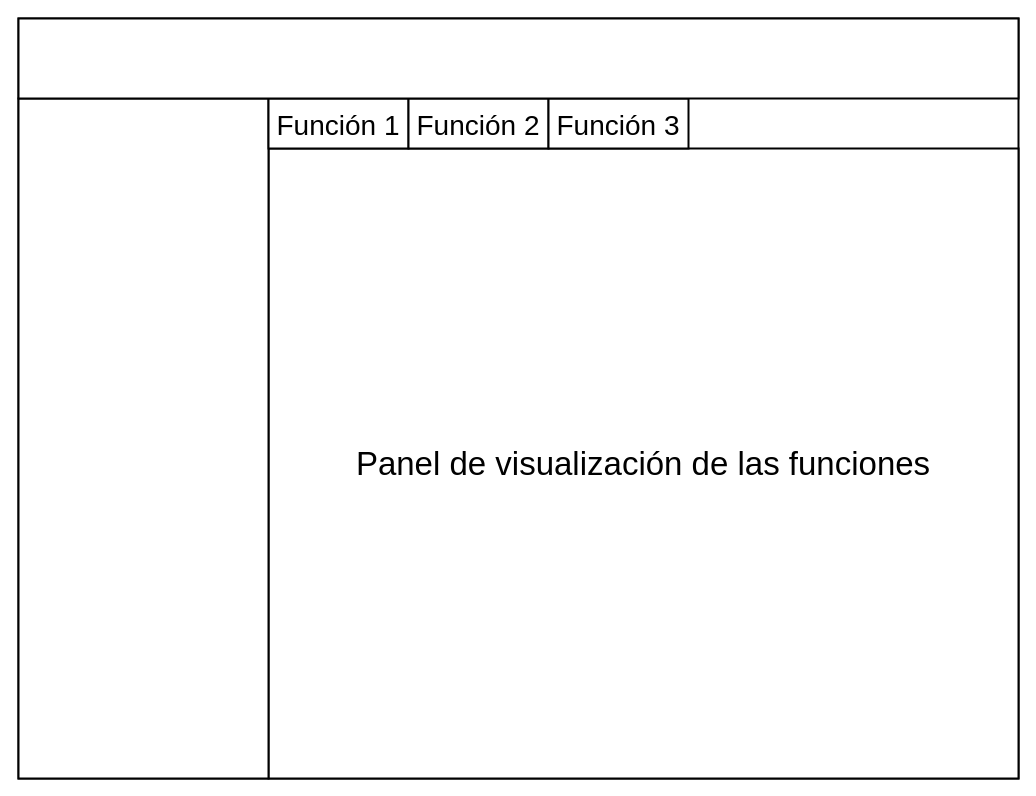
This 1036x796 diagram has some shape labels left out. The centre of each missing label's shape, as x and y in pixels:
"Panel de comunicaciones" belongs at (x=518, y=58).
"Panel de información de estado" belongs at (x=143, y=438).
